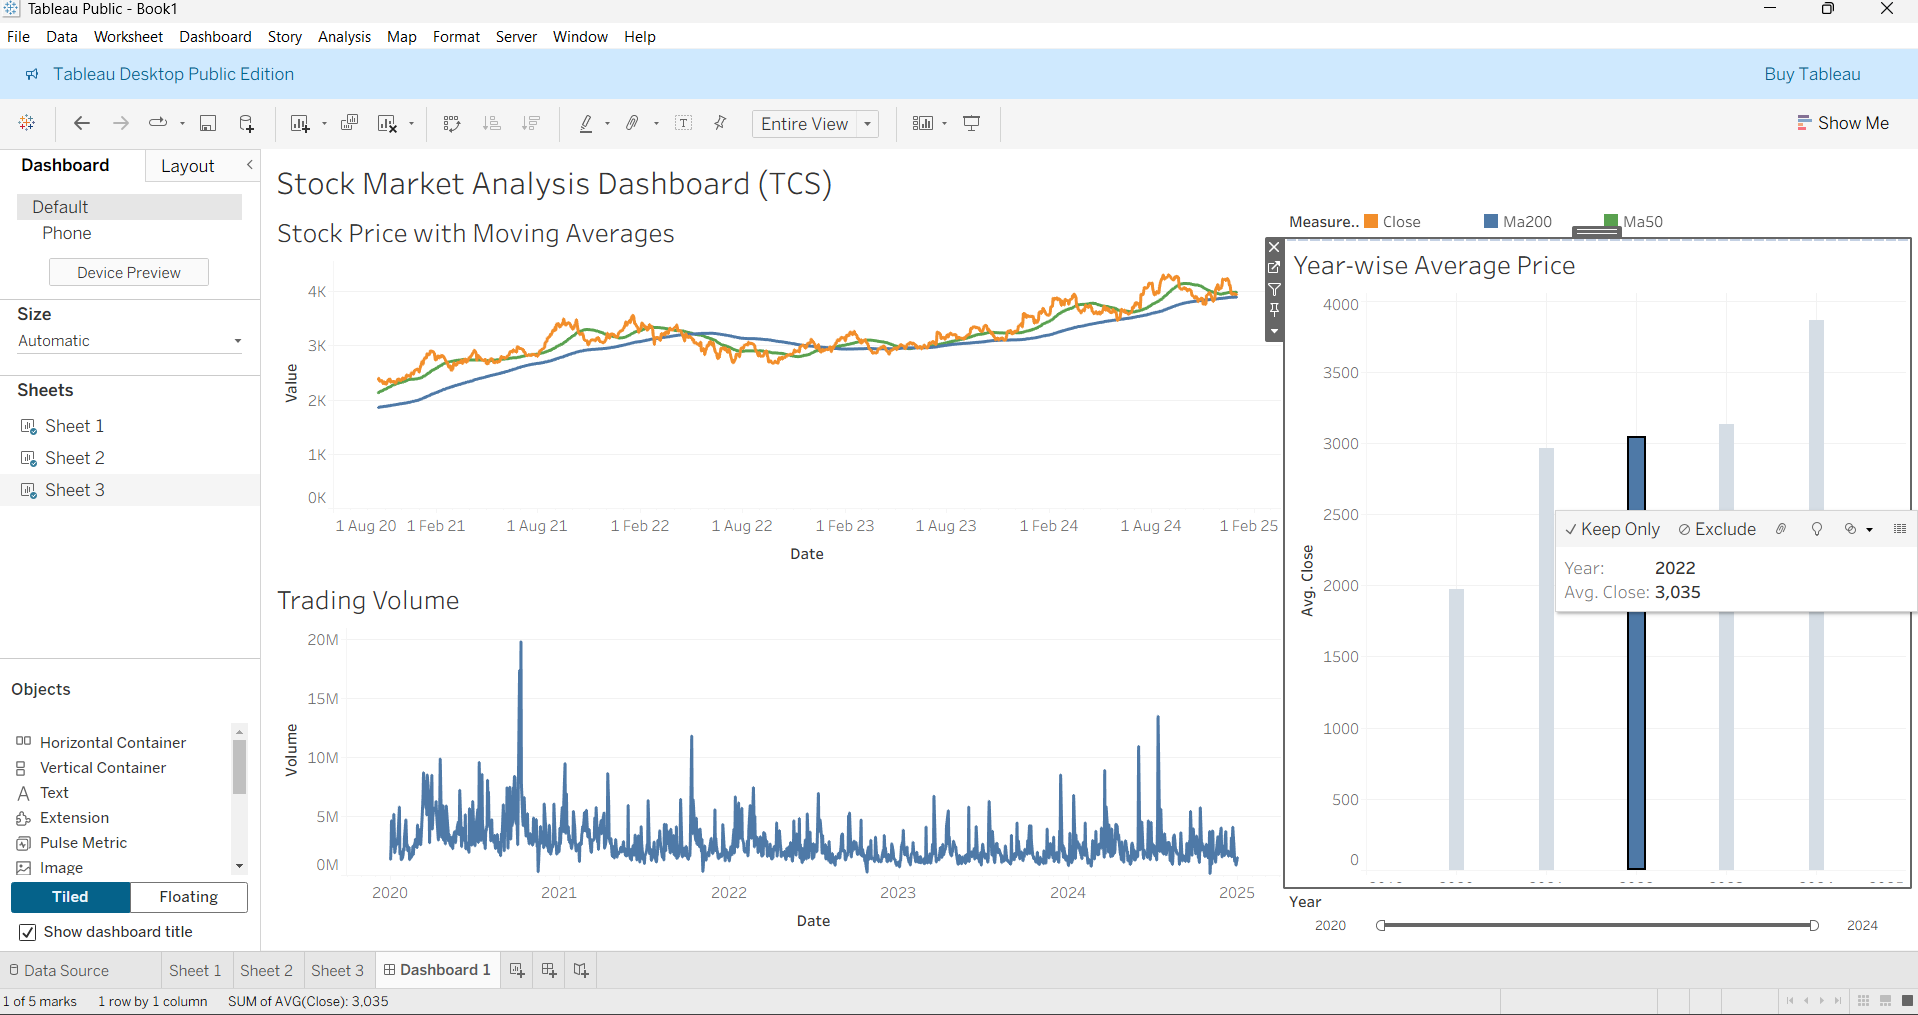

This screenshot's page, from the dashboard's own definition file:
{"tool":"tableau","page":{"name":"Dashboard 1","canvas":[1000,1000],"units":"permille","ordinal":0},"visuals":[{"type":"title","box":[4.8,10,990.3,62.4]},{"type":"worksheet","title":"Sheet 1","mark":"Line","cols":["Date"],"box":[4.8,72.4,613.1,458.8]},{"type":"legend","title":"Sheet 1","param":"[federated.0ycxjsa0wo3qpd13ktc0u0m5rvqh].[:Measure Names]","box":[618,72.4,377.2,40]},{"type":"worksheet","title":"Sheet 3","mark":"Bar","rows":["Close"],"cols":["Year"],"box":[618,112.4,377.2,809]},{"type":"worksheet","title":"Sheet 2","mark":"Line","rows":["Volume"],"cols":["Date"],"box":[4.8,531.2,613.1,458.8]},{"type":"filter","title":"Sheet 3","param":"[federated.0ycxjsa0wo3qpd13ktc0u0m5rvqh].[none:Year:qk]","box":[618,921.3,377.2,68.7]}]}

Visuals, with their boxes on the dashboard's canvas, which has no fixed pixel size, in thousandths of its width and height (x1, y1, x2, y2). These are canvas units, not pixel positions in the 1918x1015 screenshot, which may show the page scaled, cropped or inside an application window:
title: l=5, t=10, r=995, b=72
"Sheet 1" worksheet (Line marks): l=5, t=72, r=618, b=531
"Sheet 1" legend: l=618, t=72, r=995, b=112
"Sheet 3" worksheet (Bar marks): l=618, t=112, r=995, b=921
"Sheet 2" worksheet (Line marks): l=5, t=531, r=618, b=990
"Sheet 3" filter: l=618, t=921, r=995, b=990
